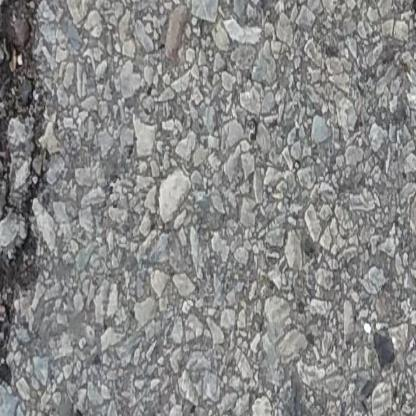Cracks: (0, 0, 53, 391), (396, 0, 416, 34), (370, 0, 395, 4)
